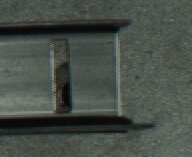40ngpress: (10, 20, 140, 129)
